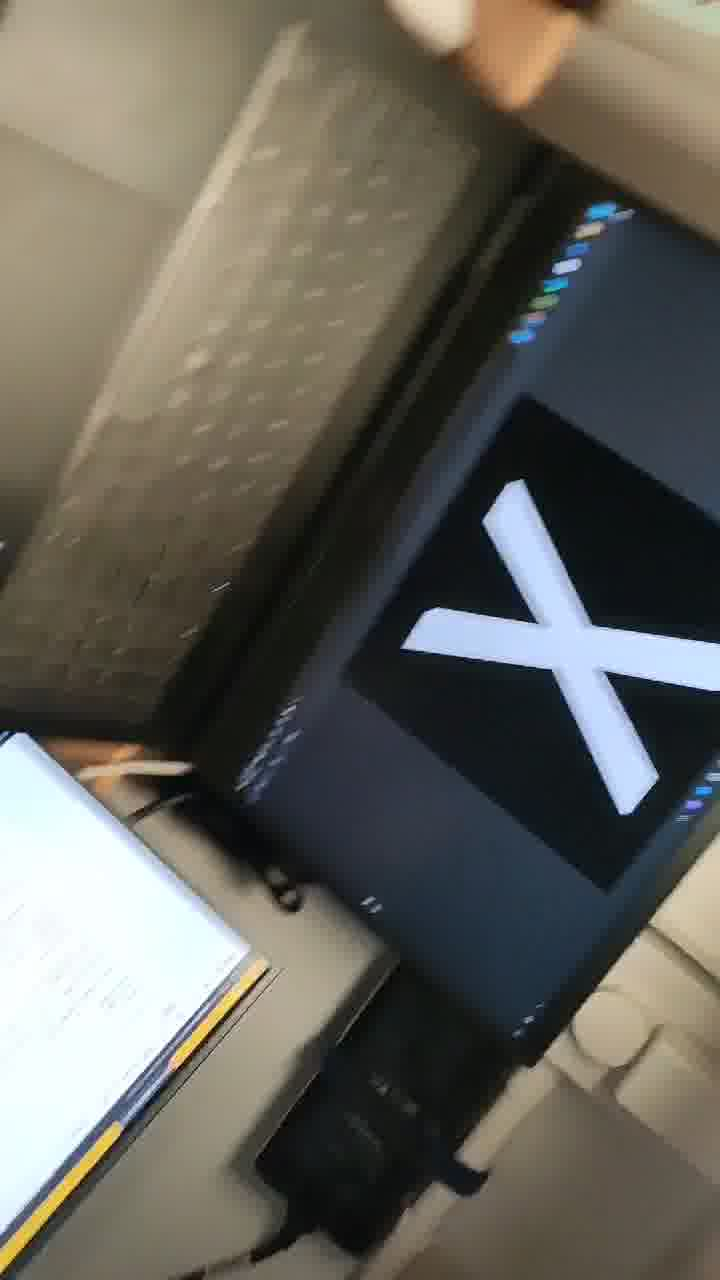X: (402, 441, 720, 854)
